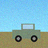vehicle: (12, 24, 40, 42)
